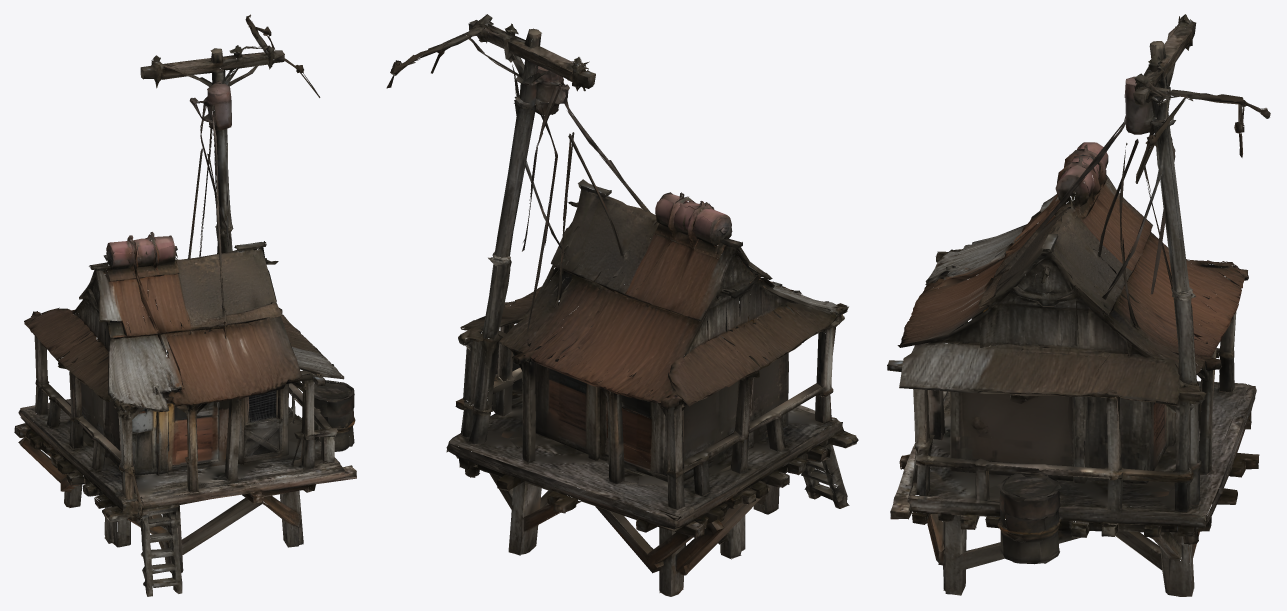
Rendered from house_slum_01.glb.
The picture shows the model from 3 angles, left to right: view 1: azimuth 30°, elevation 25°; view 2: azimuth 150°, elevation 25°; view 3: azimuth 270°, elevation 25°; orthographic projection. The views are drawn at different scales.
Visible parts, largest first — view 1: node_0; view 2: node_0; view 3: node_0.
Part boxes in pixels (<box>): node_0: <box>14,14,356,596</box>; node_0: <box>386,14,858,596</box>; node_0: <box>887,14,1270,596</box>.
Bounding box in the file's own units: 4.49 × 6.5 × 4.12.
Materials: 1 (1 with a texture image).
